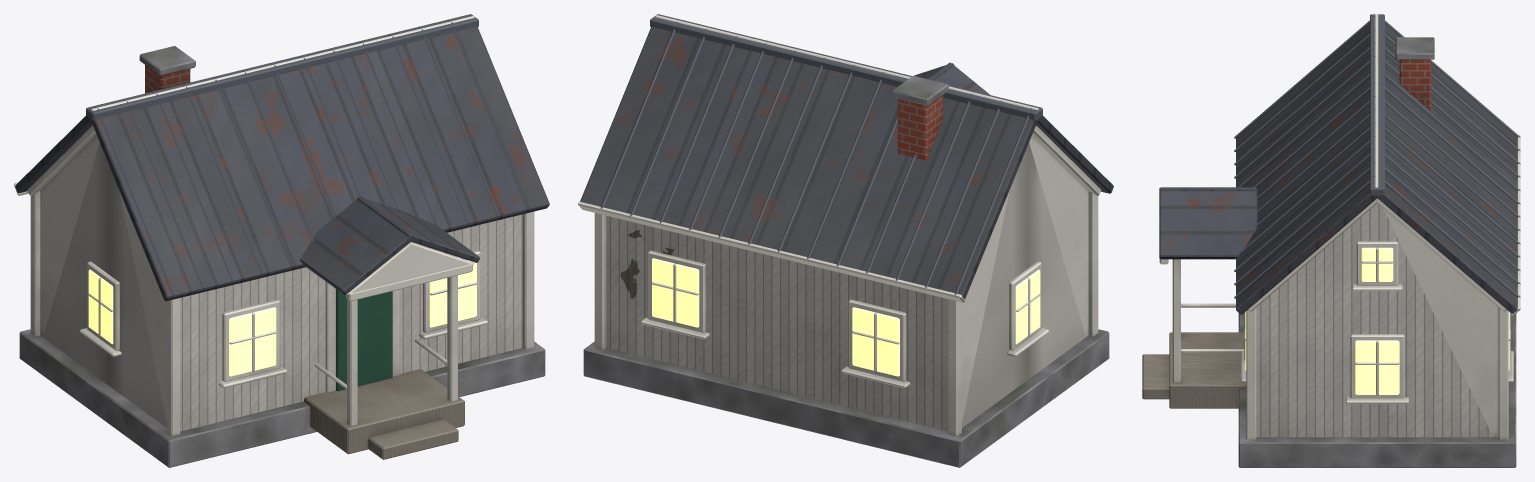
File: vitstuga_tex.glb
3 views of the same model, side by side, from view 1: azimuth 30°, elevation 25°; view 2: azimuth 150°, elevation 25°; view 3: azimuth 270°, elevation 25° (orthographic). The views are drawn at different scales.
Parts seen in each view (by area): view 1: vitstuga; view 2: vitstuga; view 3: vitstuga.
Part boxes in pixels (x1,y1,x2,y2): vitstuga: (14,14,549,467); vitstuga: (578,14,1113,467); vitstuga: (1142,14,1520,467).
Bounding box in the file's own units: 6.55 × 5.16 × 5.99.
Materials: 10 (8 with a texture image).
